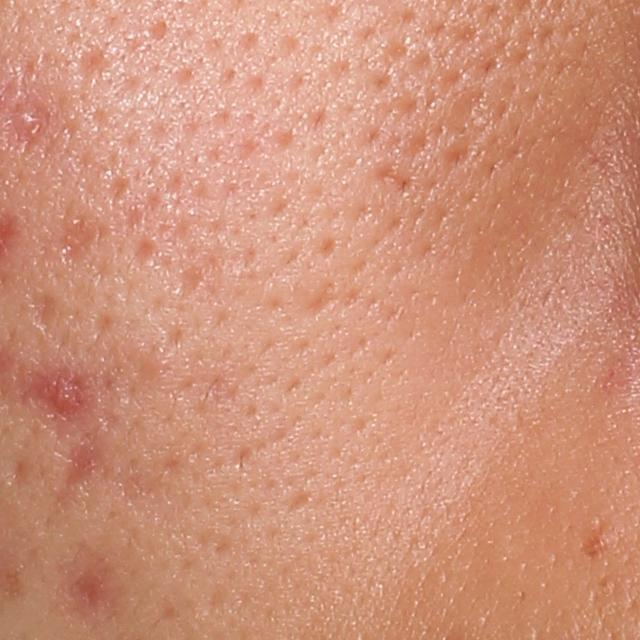atrophic_scar: (49, 433, 108, 517), (52, 204, 111, 269), (176, 251, 212, 307), (367, 162, 419, 200), (301, 284, 338, 329), (76, 40, 114, 82), (28, 288, 56, 337), (85, 309, 120, 346), (106, 168, 133, 206), (5, 453, 31, 490), (280, 492, 316, 515), (130, 239, 153, 267)
nevus: (579, 533, 608, 561)
papule: (41, 373, 80, 414), (13, 104, 40, 142)
